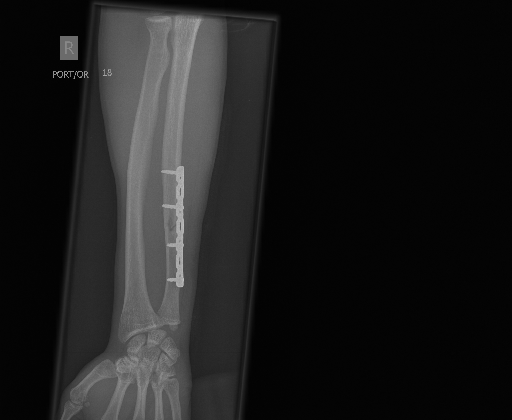implant: (161, 162, 189, 291)
